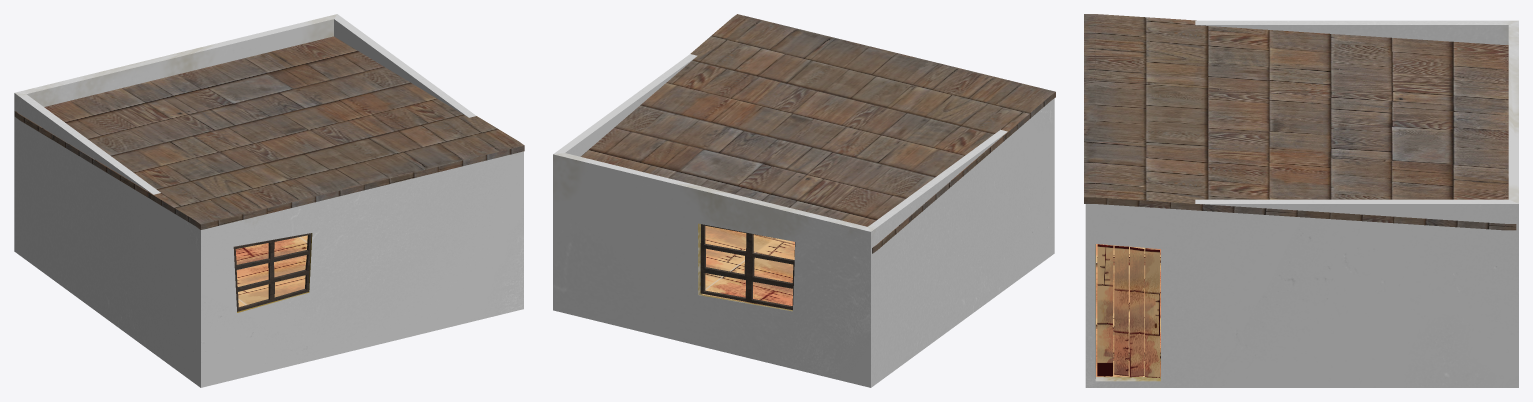
Rendered from Room.fbx.
3 renders of one model, left to right at view 1: azimuth 30°, elevation 25°; view 2: azimuth 150°, elevation 25°; view 3: azimuth 270°, elevation 25°, orthographic. The views are drawn at different scales.
Parts seen in each view (by area): view 1: Plane.008, Plane.006, Plane.007; view 2: Plane.008, Plane.006, Plane.001; view 3: Plane.008, Plane.006, Plane.002.
Boxes of the visible parts, <box> form: Plane.008: <box>14,14,523,387</box>; Plane.006: <box>14,36,524,229</box>; Plane.007: <box>233,233,311,311</box>; Plane.008: <box>553,54,1054,387</box>; Plane.006: <box>580,14,1055,253</box>; Plane.001: <box>700,224,795,310</box>; Plane.008: <box>1085,20,1518,387</box>; Plane.006: <box>1084,14,1516,230</box>; Plane.002: <box>1097,244,1159,377</box>.
Size of the model in its own units: 601 by 291 by 602.
